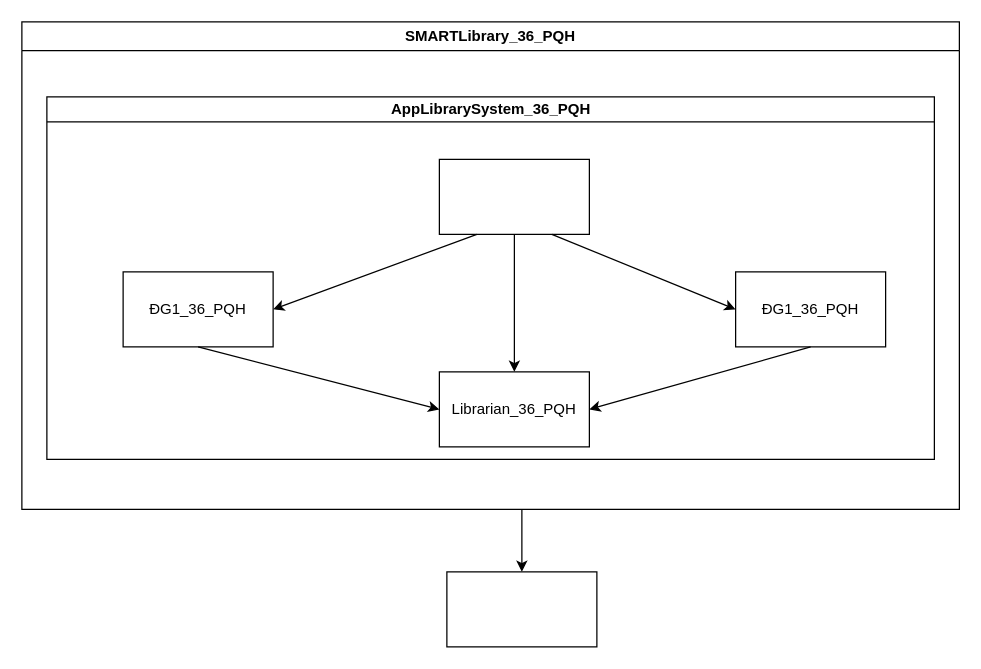
Some shapes in this 981 by 669 pixel diagram are drawn without their labels. Here are the shapes that lost their labels. From the top down, the centre of each, then its label:
At pixel 513 196: "Program".
At pixel 521 609: "Externals_36_PQH".
